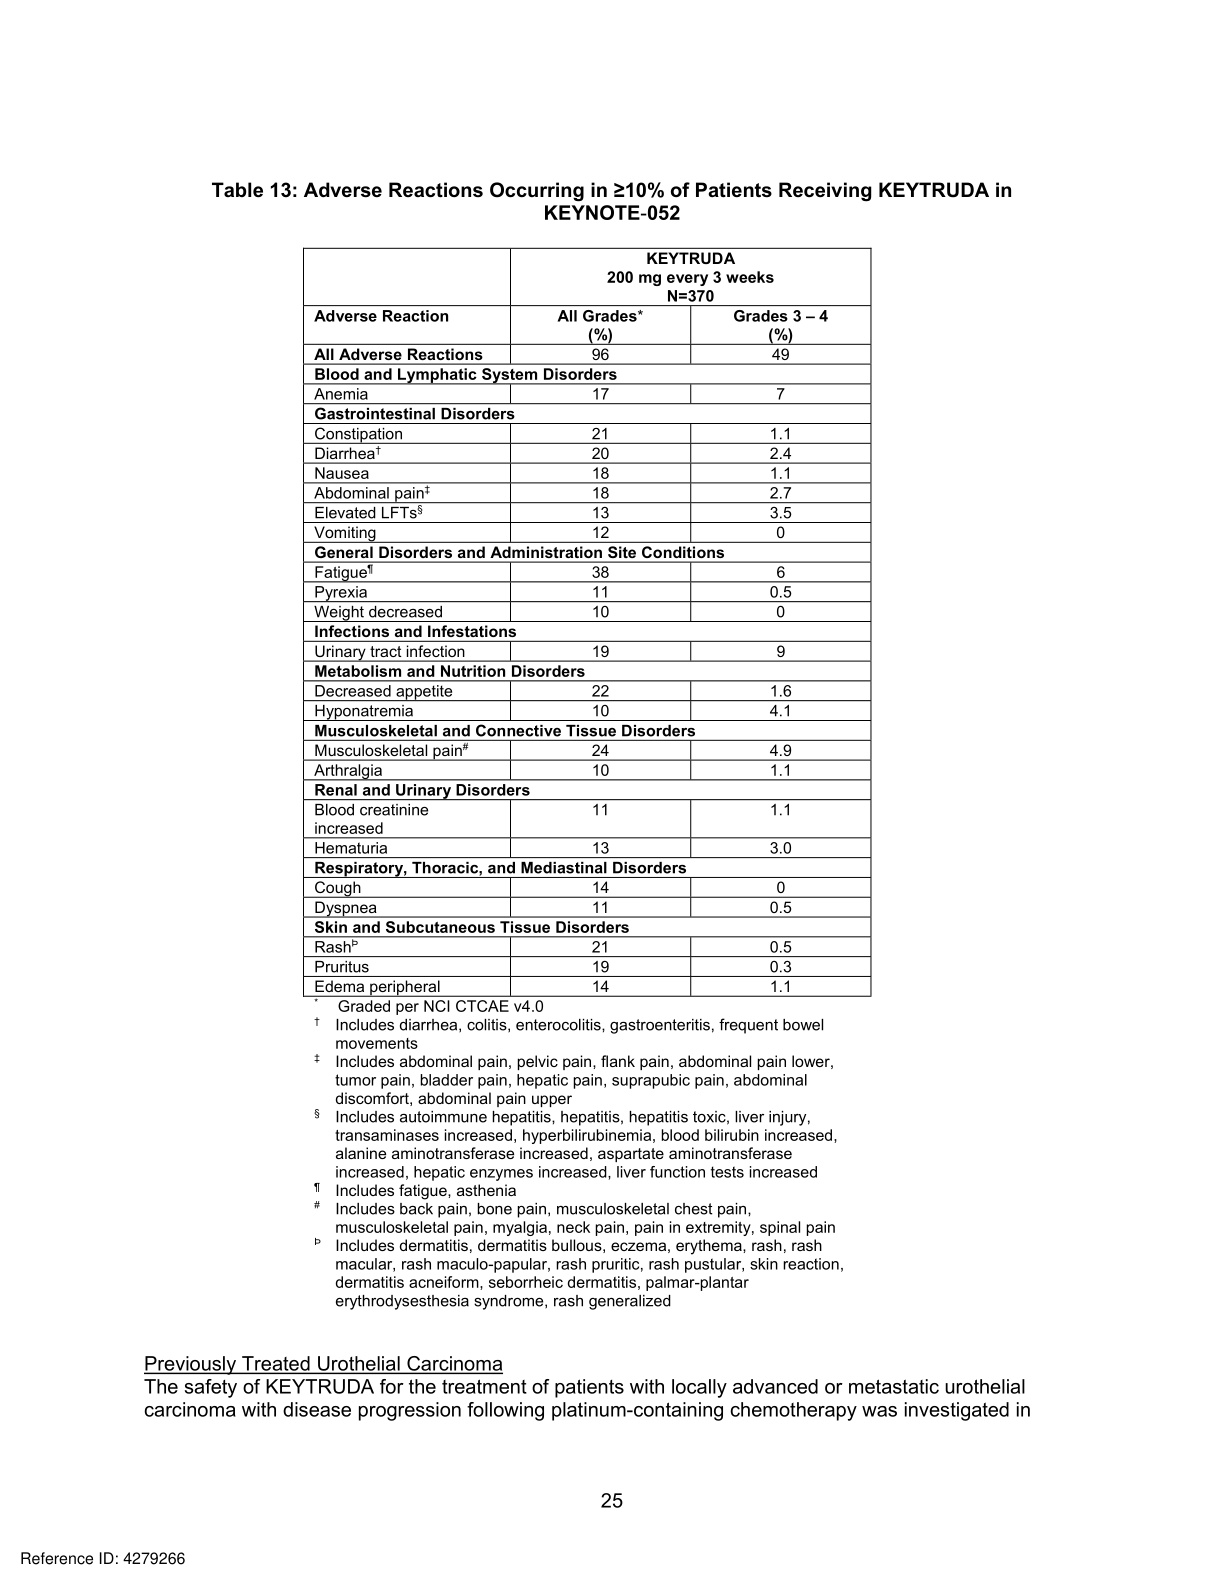merged_cells: (301, 246, 872, 999)
